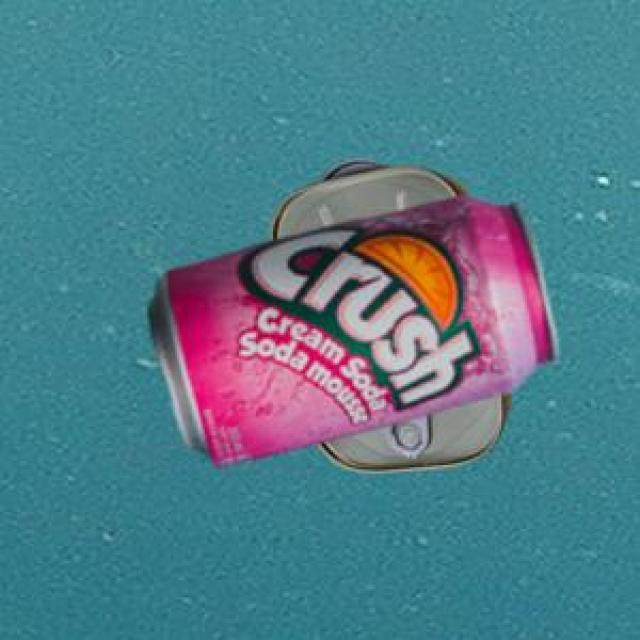logam: (146, 193, 556, 464), (268, 157, 507, 468)
